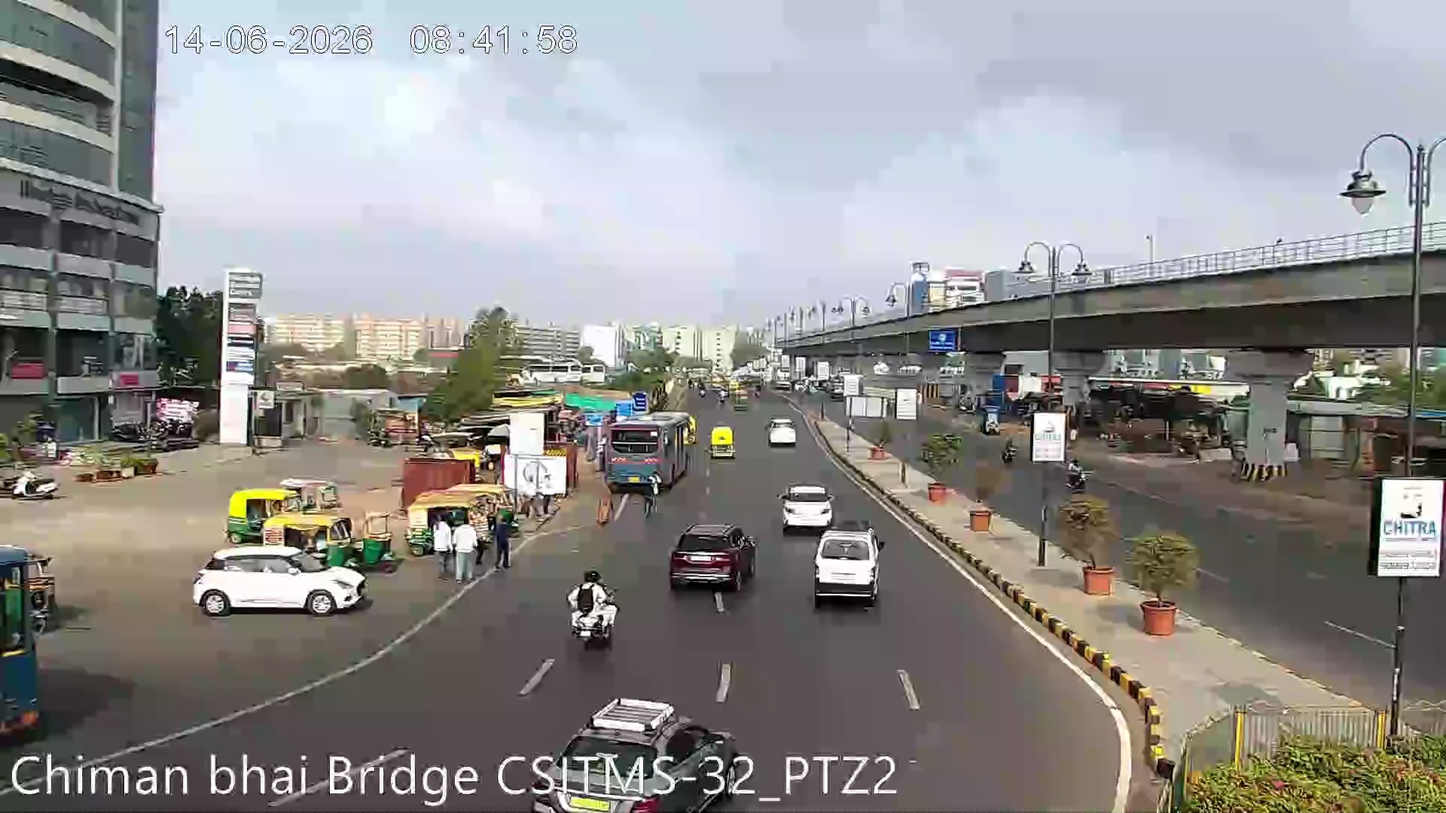auto_rickshaw: (403, 484, 504, 552), (259, 506, 362, 571), (0, 532, 60, 622), (221, 481, 300, 543), (356, 525, 398, 571), (766, 414, 799, 448), (710, 421, 737, 458), (727, 383, 752, 411)
bus: (0, 531, 60, 750), (1365, 440, 1446, 581), (602, 407, 698, 488)
car: (519, 691, 742, 812), (190, 538, 373, 619), (811, 520, 884, 606), (668, 519, 756, 588), (780, 478, 835, 531), (1, 464, 63, 499)
pedestrian: (593, 481, 617, 529), (494, 525, 511, 574), (641, 479, 659, 521)
two_wheeler: (562, 564, 622, 648), (1063, 451, 1091, 496), (999, 430, 1019, 466)
